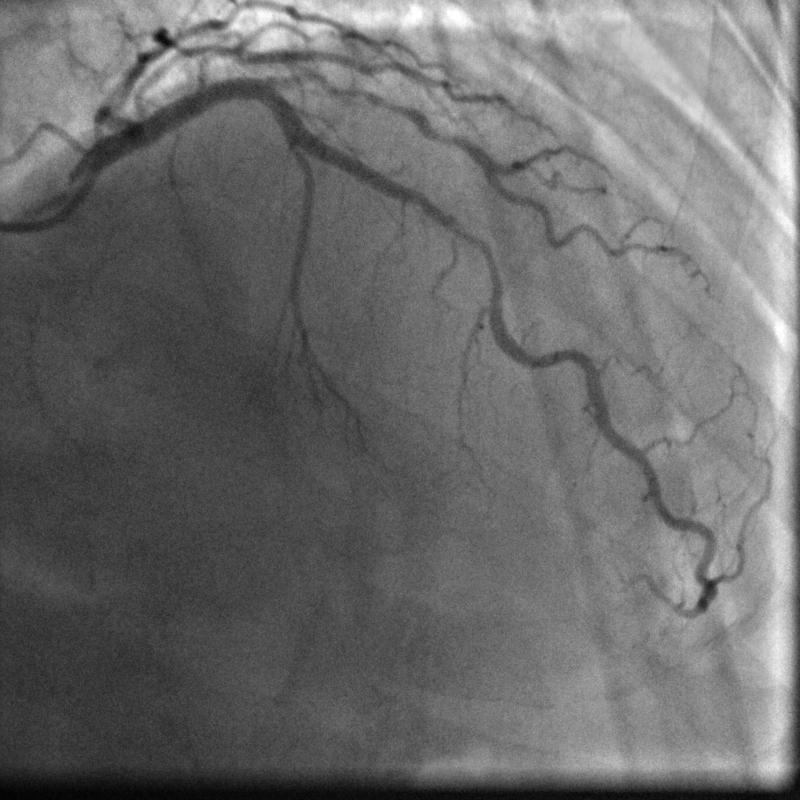Stenosis: (443, 207, 505, 285)
